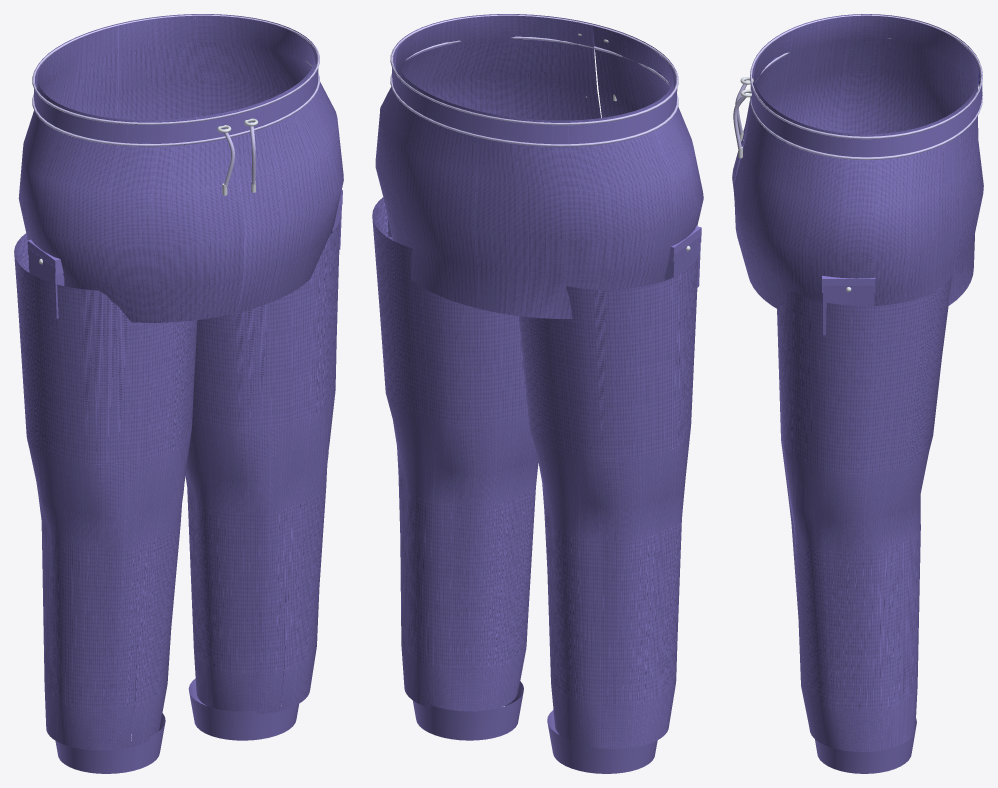
File: joggers.glb
3 renders of one model, left to right at view 1: azimuth 30°, elevation 25°; view 2: azimuth 150°, elevation 25°; view 3: azimuth 270°, elevation 25°, orthographic. The views are drawn at different scales.
Visible parts, largest first — view 1: RIWI joggers; view 2: RIWI joggers; view 3: RIWI joggers.
Part boxes in pixels (box(x1,y1,x2,y2)): RIWI joggers: box(14, 14, 343, 773); RIWI joggers: box(372, 14, 703, 773); RIWI joggers: box(732, 14, 983, 773).
Size of the model in its own units: 1.25 by 2.65 by 0.9367.
5 materials, 3 textured.
